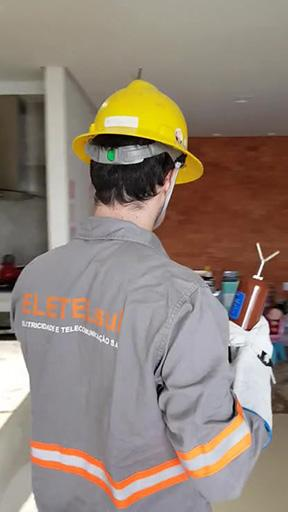Detector_Tensao_Contato: (225, 241, 283, 335)
